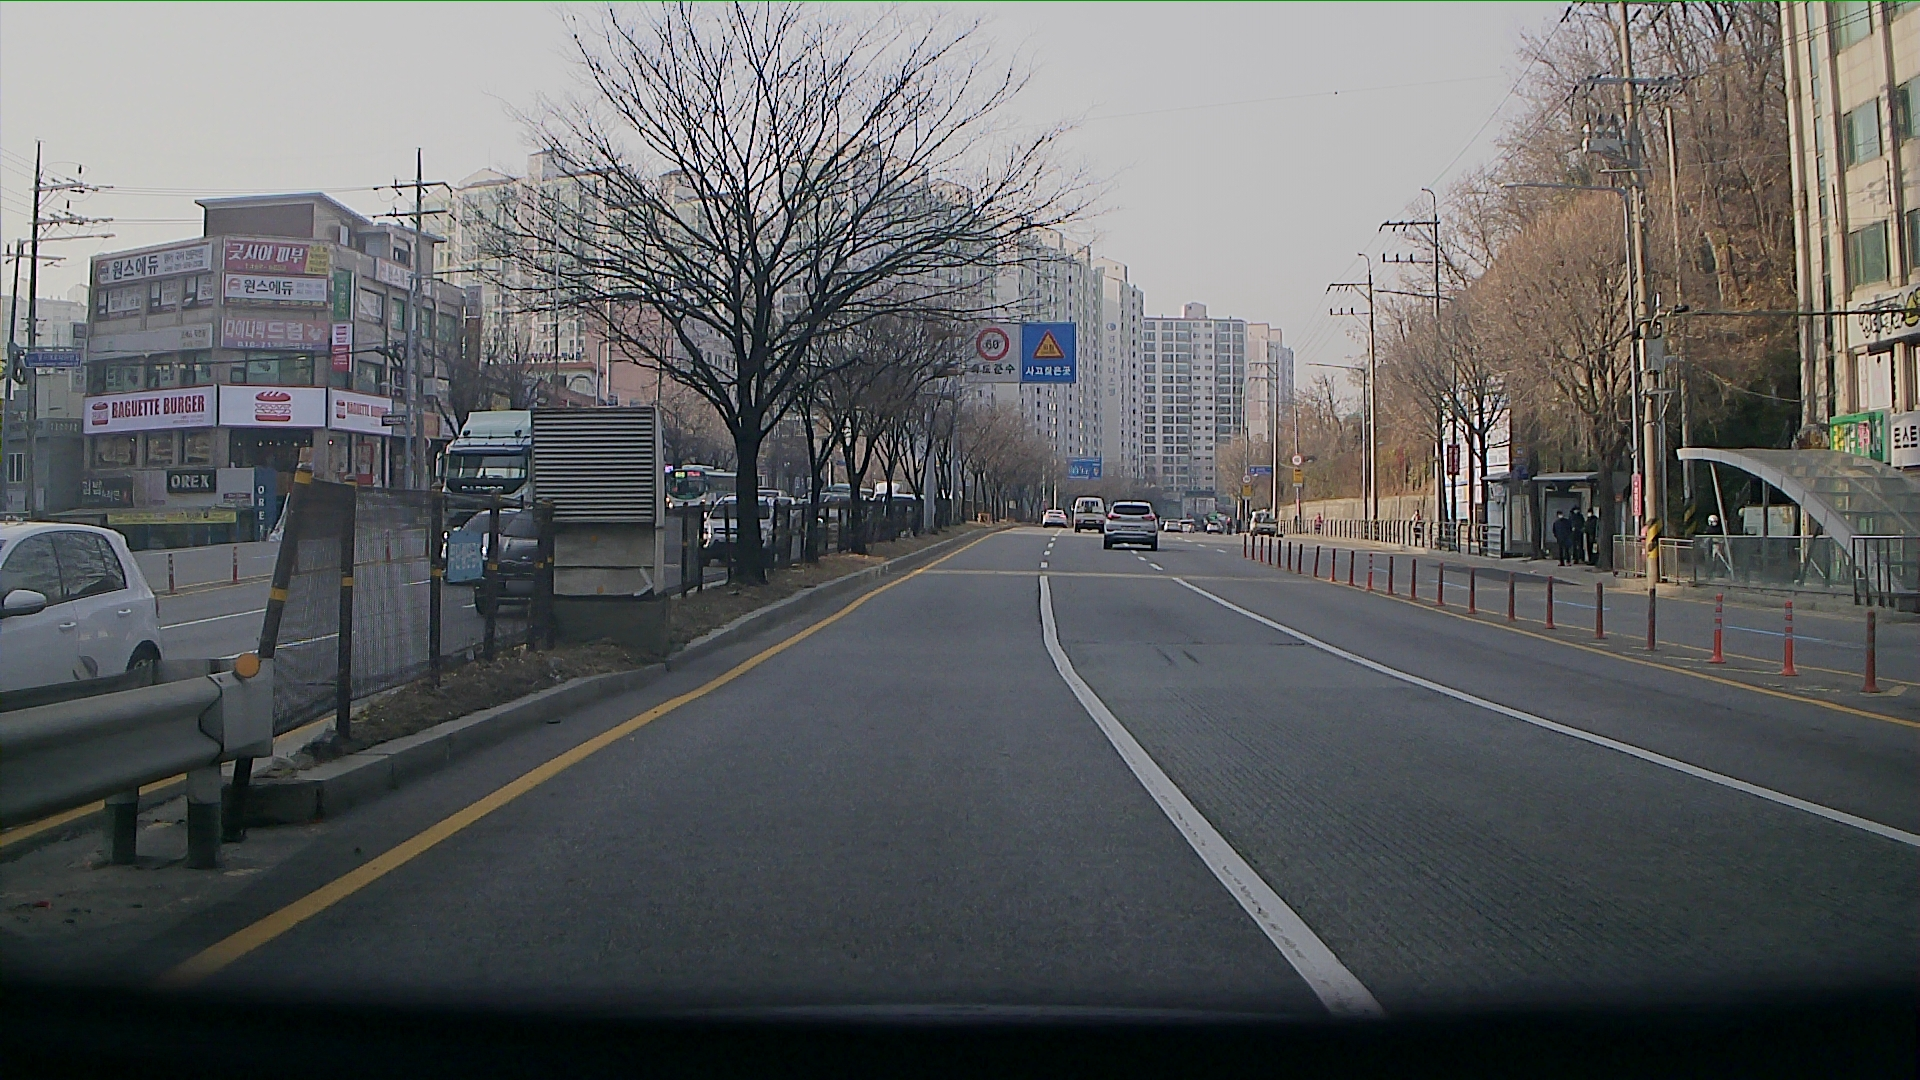trafficSignRTG: (965, 320, 1083, 382)
